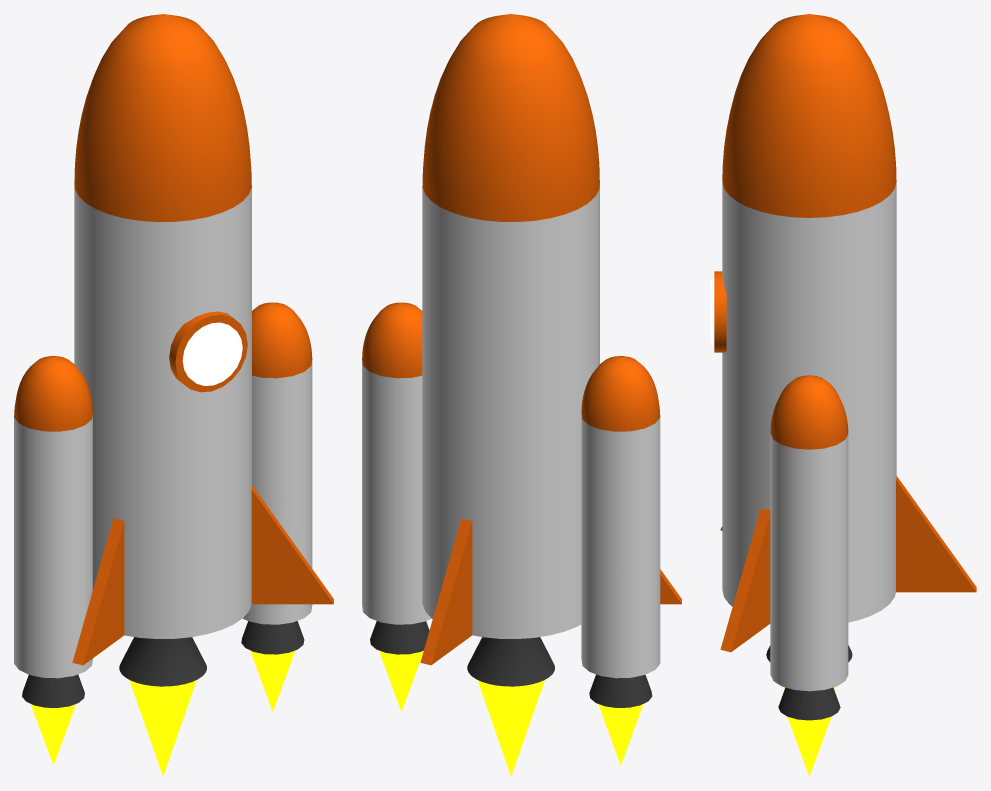
File: Rocket_07_TwinOrange.fbx
The picture shows the model from 3 angles, left to right: view 1: azimuth 30°, elevation 25°; view 2: azimuth 150°, elevation 25°; view 3: azimuth 270°, elevation 25°; orthographic projection. The views are drawn at different scales.
Visible parts, largest first — view 1: R07_Body, R07_Nose, R07_Booster_2, R07_Booster_1, R07_Fin_3, R07_BoosterNose_2, R07_Fin_2, R07_BoosterNose_1, R07_Nozzle_1, R07_Flame_1, R07_Window_1, R07_WindowFrame_1 (+4 smaller); view 2: R07_Body, R07_Nose, R07_Booster_2, R07_Booster_1, R07_BoosterNose_2, R07_Fin_1, R07_BoosterNose_1, R07_Nozzle_1, R07_Flame_1, R07_BoosterNozzle_2, R07_BoosterNozzle_1, R07_BoosterFlame_2 (+1 smaller); view 3: R07_Body, R07_Nose, R07_Booster_1, R07_Fin_1, R07_BoosterNose_1, R07_Fin_3, R07_BoosterNozzle_1, R07_BoosterFlame_1, R07_WindowFrame_1.
Part boxes in pixels (x1,y1,x2,y2): R07_Body: (74,183,251,638); R07_Nose: (74,14,251,221); R07_Booster_2: (14,413,92,678); R07_Booster_1: (243,360,312,624); R07_Fin_3: (251,485,333,604); R07_BoosterNose_2: (14,356,92,431); R07_Fin_2: (72,518,124,665); R07_BoosterNose_1: (252,302,312,378); R07_Nozzle_1: (119,637,206,686); R07_Flame_1: (129,680,196,776); R07_Window_1: (182,322,242,385); R07_WindowFrame_1: (169,311,247,392); R07_Body: (422,183,599,638); R07_Nose: (422,14,599,221); R07_Booster_2: (581,413,660,678); R07_Booster_1: (362,360,431,624); R07_BoosterNose_2: (581,356,660,431); R07_Fin_1: (420,518,472,665); R07_BoosterNose_1: (362,302,422,378); R07_Nozzle_1: (467,637,554,686); R07_Flame_1: (477,680,544,776); R07_BoosterNozzle_2: (589,674,652,707); R07_BoosterNozzle_1: (370,621,429,654); R07_BoosterFlame_2: (598,704,643,765); R07_Body: (722,181,896,622); R07_Nose: (722,14,896,217); R07_Booster_1: (770,433,848,691); R07_Fin_1: (896,476,976,592); R07_BoosterNose_1: (770,375,848,449); R07_Fin_3: (720,508,770,652); R07_BoosterNozzle_1: (778,687,840,720); R07_BoosterFlame_1: (787,716,831,776); R07_WindowFrame_1: (714,271,726,352).
Bounding box in the file's own units: 3.18 × 8.05 × 2.6.
